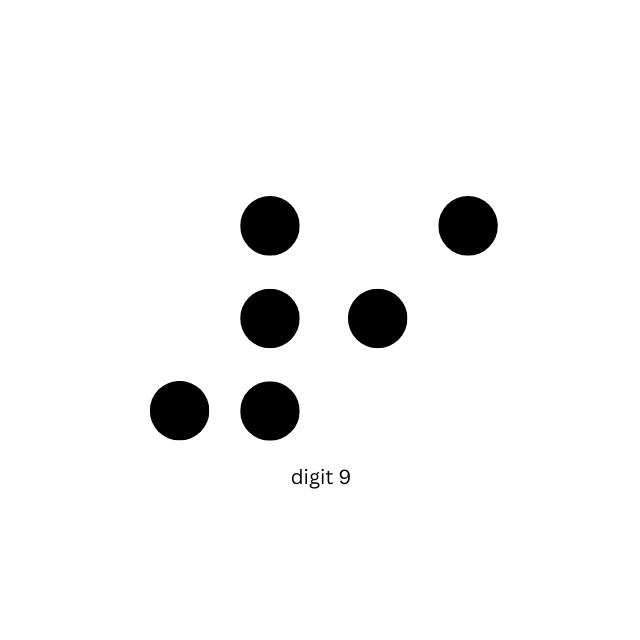digit_9: (346, 192, 499, 436)
number_sign: (146, 193, 301, 443)
